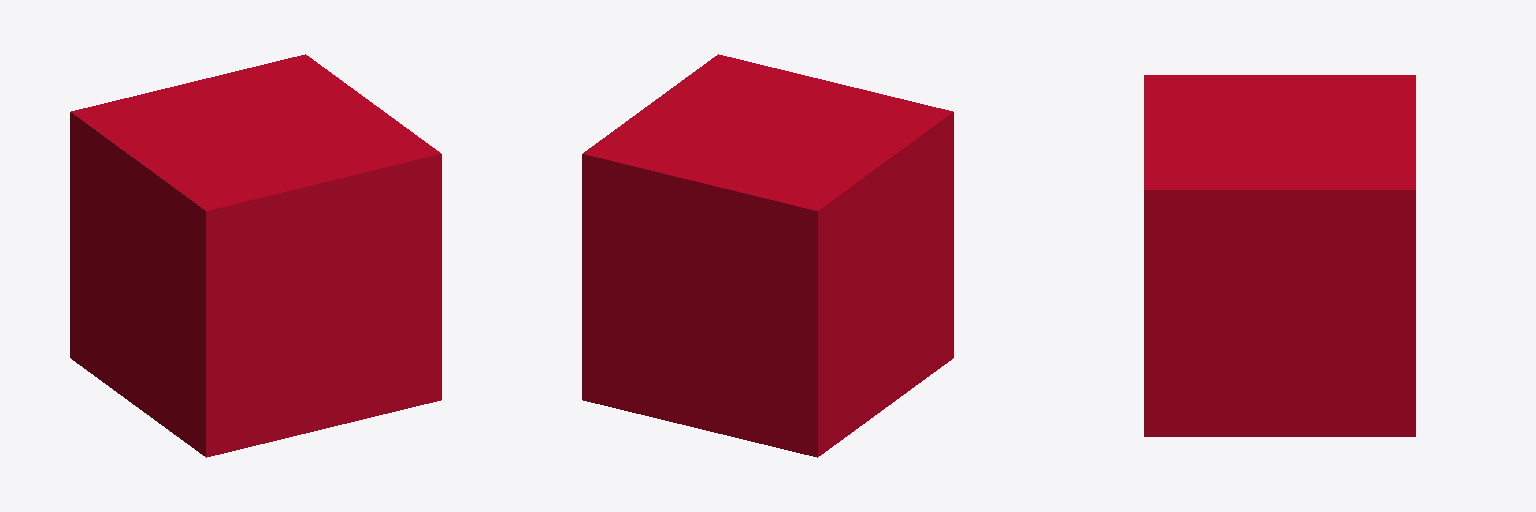
Rendered from hcube.obj.
3 views of the same model, side by side, from view 1: azimuth 30°, elevation 25°; view 2: azimuth 150°, elevation 25°; view 3: azimuth 270°, elevation 25° (orthographic).
Parts seen in each view (by area): view 1: Cube; view 2: Cube; view 3: Cube.
Boxes of the visible parts, x1,y1,x2,y2 form: Cube: [70, 54, 441, 457]; Cube: [582, 54, 953, 457]; Cube: [1144, 75, 1415, 436].
Bounding box in the file's own units: 2 × 2 × 2.